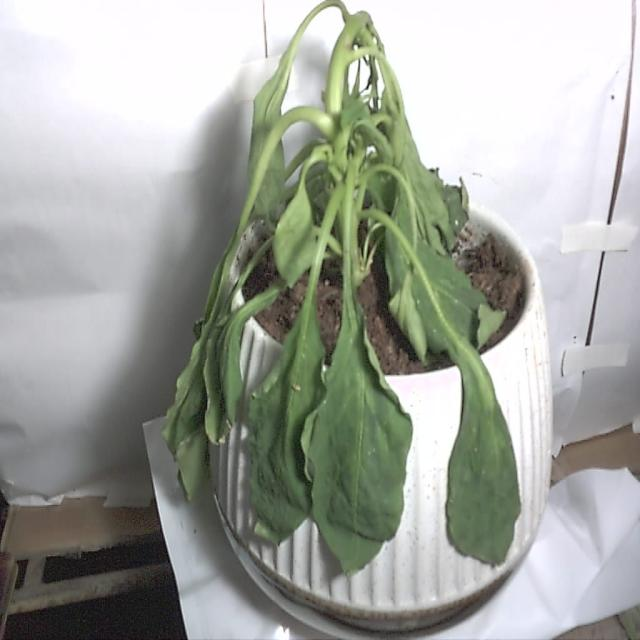Leaf: (310, 268, 411, 569)
